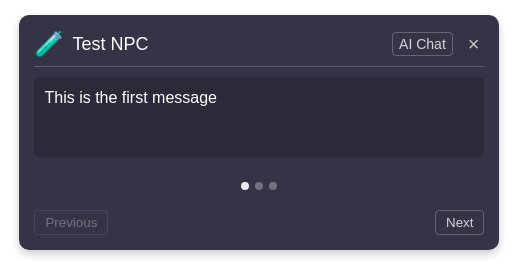
Scenario: ConversationModal › should navigate to previous message when Previous button is clicked
The width and height of the screenshot is (519, 274).
Go to second message
Click the button "Next". click: (460, 223)
box: top-left (435, 210), bottom-right (484, 235)
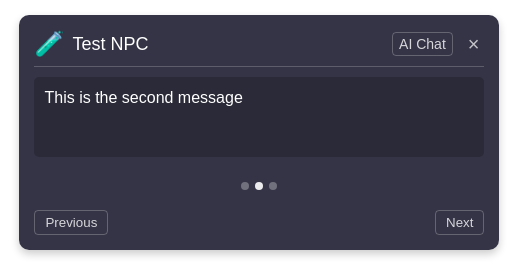
Now go back to first message
Click the button "Previous". click: (71, 223)
box: top-left (34, 210), bottom-right (108, 235)
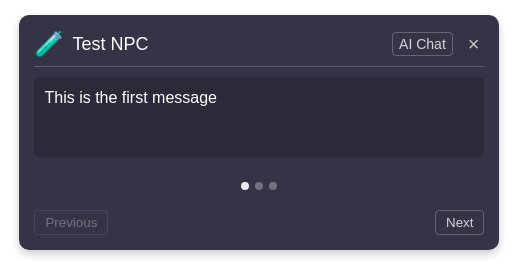
Result: the text "This is the first message" is shown at top-left (34, 77), bottom-right (484, 157)
